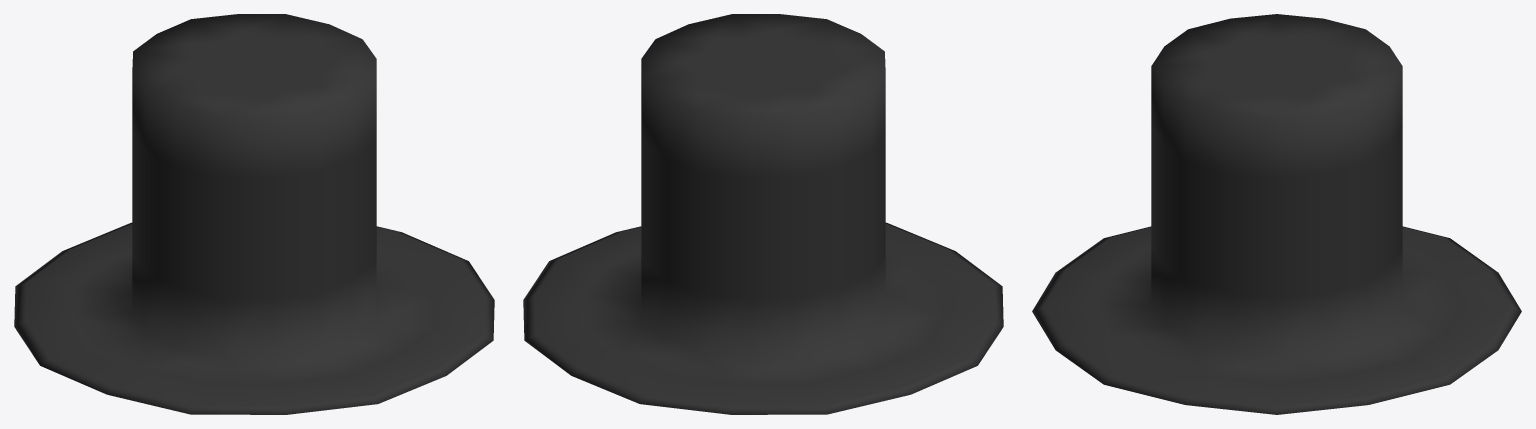
Rendered from top-hat.glb.
3 renders of one model, left to right at view 1: azimuth 30°, elevation 25°; view 2: azimuth 150°, elevation 25°; view 3: azimuth 270°, elevation 25°, orthographic.
Visible parts, largest first — view 1: Plane.001; view 2: Plane.001; view 3: Plane.001.
Boxes of the visible parts, <box> form: Plane.001: <box>14,14,494,414</box>; Plane.001: <box>523,14,1003,414</box>; Plane.001: <box>1032,14,1521,414</box>.
Size of the model in its own units: 3.71 by 2.09 by 3.71.
Materials: 1 (1 with a texture image).
